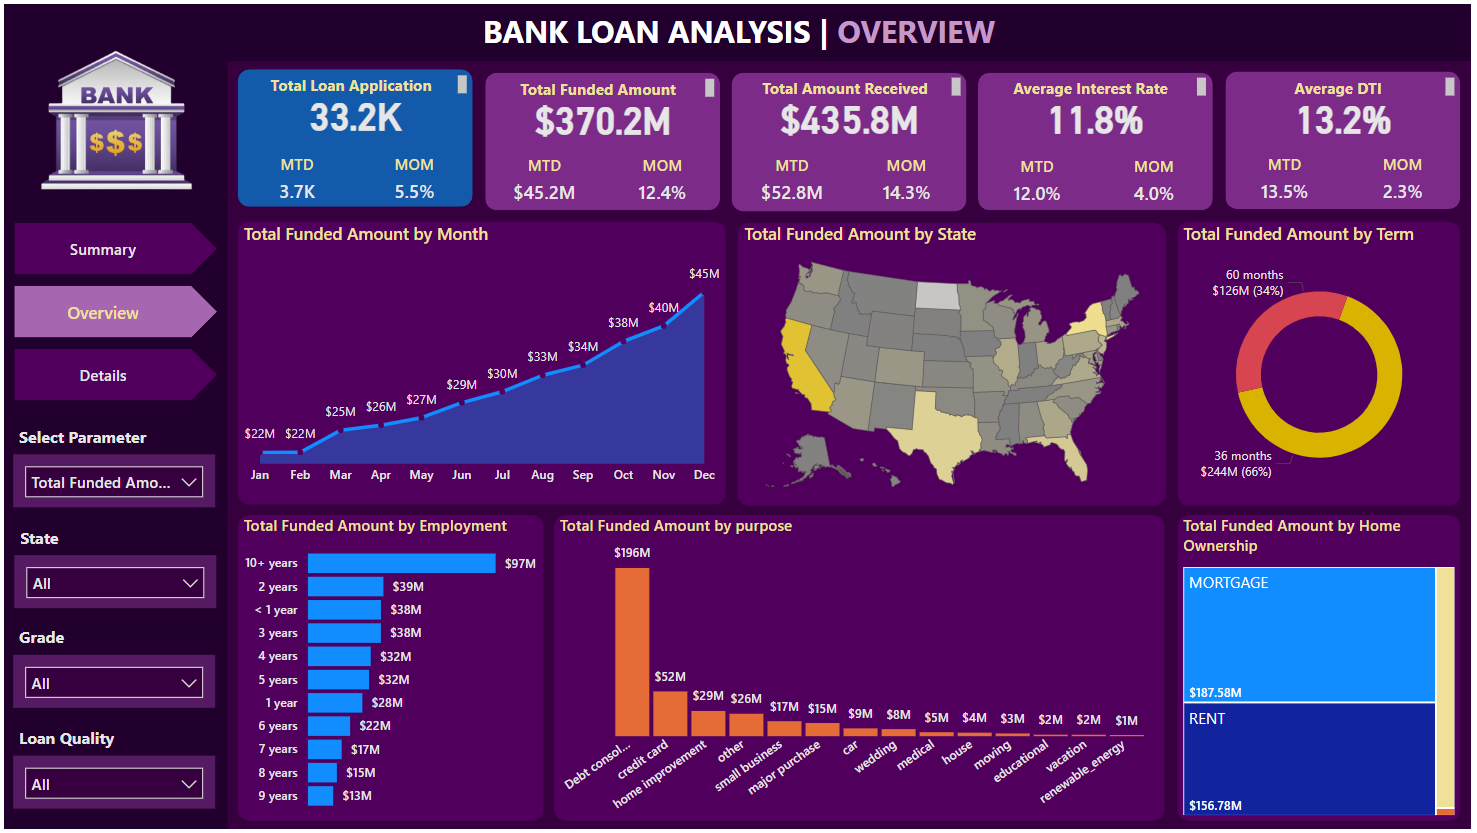

Layout of this report page (visuals, bound fields, positions):
{"tool":"powerbi","page":{"name":"Overview","canvas":[1280,720],"ordinal":1},"visuals":[{"type":"shape","box":[0,0,1280,49.6],"z":0},{"type":"shape","box":[204.1,190.3,425.6,247.4],"z":0,"group":"g6"},{"type":"shape","box":[204.1,446.1,266.8,266.8],"z":1000},{"type":"shape","box":[0,49.5,195,670.4],"z":2000},{"type":"textbox","box":[401.1,0,479.9,49.4],"z":3000},{"type":"shape","box":[204.1,57.3,205,120],"z":3000,"group":"g1"},{"type":"shape","box":[1065.9,58.7,205,120],"z":3000,"group":"g4"},{"type":"shape","box":[419.6,59.8,205,120],"z":3000,"group":"g2"},{"type":"shape","box":[850.5,60,205,119.8],"z":3000,"group":"g3"},{"type":"group","id":"g1","title":"Group 1","box":[204.1,57.3,205,124.5],"z":4000},{"type":"shape","box":[635,59.5,205,121.1],"z":4000,"group":"g5"},{"type":"card","fields":{"Values":["loan_data.Total loan applications"]},"box":[204.1,73.8,205,45.9],"z":4000,"group":"g1"},{"type":"card","fields":{"Values":["loan_data.Average interest rate"]},"box":[850.5,75.2,204.5,45.9],"z":4000,"group":"g3"},{"type":"card","fields":{"Values":["loan_data.Average dti"]},"box":[1065.9,75.2,205,45.9],"z":4000,"group":"g4"},{"type":"card","fields":{"Values":["loan_data.Total funded amount"]},"box":[419.6,76.3,205,45.9],"z":4000,"group":"g2"},{"type":"textbox","box":[204.1,57.3,205,27.1],"z":5000,"group":"g1"},{"type":"textbox","box":[850.5,58.7,204.5,27.1],"z":5000,"group":"g3"},{"type":"textbox","box":[1065.9,58.7,205,27.1],"z":5000,"group":"g4"},{"type":"group","id":"g2","title":"Group 1","box":[419.6,59.8,205,123],"z":5000},{"type":"textbox","box":[419.6,59.8,205,27.1],"z":5000,"group":"g2"},{"type":"group","id":"g3","title":"Group 1","box":[850.5,58.7,205,124.3],"z":6000},{"type":"card","fields":{"Values":["loan_data.Total amount received"]},"box":[635.5,75.2,204.4,45.9],"z":6000,"group":"g5"},{"type":"card","title":"MTD","fields":{"Values":["loan_data.MTD avg dti"]},"box":[1080.7,130.9,73.4,50.8],"z":6000,"group":"g4"},{"type":"card","title":"MTD","fields":{"Values":["loan_data.MTD loan application"]},"box":[218.7,131.2,73.6,50.6],"z":6000,"group":"g1"},{"type":"card","title":"MTD","fields":{"Values":["loan_data.MTD funded amount"]},"box":[434.4,132,73.4,50.8],"z":6000,"group":"g2"},{"type":"card","title":"MTD","fields":{"Values":["loan_data.MTD avg int rate"]},"box":[865.3,132.2,73.2,50.8],"z":6000,"group":"g3"},{"type":"textbox","box":[635.5,58.7,204.5,27.1],"z":7000,"group":"g5"},{"type":"group","id":"g4","title":"Group 1","box":[1065.9,58.7,205,123],"z":7000},{"type":"card","title":"MOM","fields":{"Values":["loan_data.MOM avg dti"]},"box":[1183.5,130.9,73.4,50.8],"z":7000,"group":"g4"},{"type":"card","title":"MOM","fields":{"Values":["loan_data.MOM loan applications"]},"box":[321.2,131.2,73.6,50.6],"z":7000,"group":"g1"},{"type":"card","title":"MOM","fields":{"Values":["loan_data.MOM funded amount"]},"box":[537.2,132,73.4,50.8],"z":7000,"group":"g2"},{"type":"card","title":"MOM","fields":{"Values":["loan_data.MOM avg int rate"]},"box":[967.8,132.2,73.2,50.8],"z":7000,"group":"g3"},{"type":"group","id":"g5","title":"Group 2","box":[635,58.7,205,123.8],"z":8000},{"type":"card","title":"MTD","fields":{"Values":["loan_data.MTD amount received"]},"box":[651.1,131.7,73.2,50.8],"z":8000,"group":"g5"},{"type":"group","id":"g6","title":"Group 3","box":[204.1,190.3,425.6,247.4],"z":9000},{"type":"card","title":"MOM","fields":{"Values":["loan_data.MOM amount received"]},"box":[750.9,131.7,73.2,50.8],"z":10000,"group":"g5"},{"type":"group","id":"g7","title":"Group 4","box":[9.3,450.8,176.4,76.3],"z":10000},{"type":"group","id":"g8","title":"Group 4","box":[8.3,538.4,176.4,76.3],"z":11000},{"type":"group","id":"g9","title":"Group 4","box":[8.3,626.1,176.4,76.3],"z":12000},{"type":"group","id":"g10","title":"Group 4","box":[8.3,363.1,176.4,76.3],"z":13000},{"type":"areaChart","fields":{"Y":["loan_data.Total Funded Amount"],"Category":["Date Table.Month"]},"box":[204.1,190.1,425.6,237.6],"z":14000},{"type":"textbox","box":[8.3,363.1,176.4,28.9],"z":14500,"group":"g10"},{"type":"textbox","box":[9.3,450.8,176.4,28.9],"z":14500,"group":"g7"},{"type":"textbox","box":[8.3,538.4,176.4,28.9],"z":14500,"group":"g8"},{"type":"textbox","box":[8.3,626.1,176.4,28.9],"z":14500,"group":"g9"},{"type":"shape","box":[640,190.6,373.7,247.4],"z":15000},{"type":"slicer","fields":{"Values":["Select Measure.Select Measure"]},"box":[8.3,393,176.4,46.4],"z":15000,"group":"g10"},{"type":"slicer","fields":{"Values":["loan_data.address_state"]},"box":[9.3,480.7,176.4,46.4],"z":15000,"group":"g7"},{"type":"slicer","fields":{"Values":["loan_data.grade","loan_data.sub_grade"]},"box":[8.3,568.3,176.4,46.4],"z":15000,"group":"g8"},{"type":"slicer","fields":{"Values":["loan_data.Good vs Bad Loan"]},"box":[8.3,656,176.4,46.4],"z":15000,"group":"g9"},{"type":"shapeMap","fields":{"Value":["loan_data.Total Funded Amount"],"Category":["loan_data.address_state"]},"box":[640.5,190.1,373.7,247.4],"z":16000},{"type":"shape","box":[1024,190.2,247.4,247.4],"z":17000},{"type":"donutChart","fields":{"Y":["loan_data.Total Funded Amount"],"Category":["loan_data.term"]},"box":[1024,190.1,247.4,247.4],"z":18000},{"type":"barChart","fields":{"Y":["loan_data.Total Funded Amount"],"Category":["loan_data.emp_length"]},"box":[204.1,446.1,266.8,266.8],"z":19000},{"type":"shape","box":[479.6,446.1,533.6,266.8],"z":20000},{"type":"shape","box":[1024,446.1,247.4,266.8],"z":21000},{"type":"columnChart","fields":{"Y":["loan_data.Total Funded Amount"],"Category":["loan_data.purpose"]},"box":[479.6,446.1,533.6,266.8],"z":22000},{"type":"treemap","fields":{"Values":["loan_data.Total Funded Amount"],"Group":["loan_data.home_ownership"]},"box":[1024,446.1,247.4,266.8],"z":23000},{"type":"pageNavigator","box":[9.3,190.8,176.4,155.7],"z":24000},{"type":"image","box":[0,17.5,194.9,165],"z":25000}]}

Visuals, with their boxes in screenshot pixels (x1, y1, x2, y2), scaled from the page's 1280x720 canvas onto the 1477x833 screenshot:
shape: (0,0,1476,57)
shape: (236,220,727,506)
shape: (236,516,543,825)
shape: (0,57,225,832)
textbox: (463,0,1017,57)
shape: (236,66,472,205)
shape: (1230,68,1466,207)
shape: (484,69,721,208)
shape: (981,69,1218,208)
"Group 1" group: (236,66,472,210)
shape: (733,69,969,209)
card - loan_data.Total loan applications: (236,85,472,138)
card - loan_data.Average interest rate: (981,87,1217,140)
card - loan_data.Average dti: (1230,87,1466,140)
card - loan_data.Total funded amount: (484,88,721,141)
textbox: (236,66,472,98)
textbox: (981,68,1217,99)
textbox: (1230,68,1466,99)
"Group 1" group: (484,69,721,211)
textbox: (484,69,721,101)
"Group 1" group: (981,68,1218,212)
card - loan_data.Total amount received: (733,87,969,140)
"MTD" card: (1247,151,1332,210)
"MTD" card: (252,152,337,210)
"MTD" card: (501,153,586,211)
"MTD" card: (998,153,1083,212)
textbox: (733,68,969,99)
"Group 1" group: (1230,68,1466,210)
"MOM" card: (1366,151,1450,210)
"MOM" card: (371,152,456,210)
"MOM" card: (620,153,705,211)
"MOM" card: (1117,153,1201,212)
"Group 2" group: (733,68,969,211)
"MTD" card: (751,152,836,211)
"Group 3" group: (236,220,727,506)
"MOM" card: (866,152,951,211)
"Group 4" group: (11,522,214,610)
"Group 4" group: (10,623,213,711)
"Group 4" group: (10,724,213,813)
"Group 4" group: (10,420,213,508)
areaChart - loan_data.Total Funded Amount x Date Table.Month: (236,220,727,495)
textbox: (10,420,213,454)
textbox: (11,522,214,555)
textbox: (10,623,213,656)
textbox: (10,724,213,758)
shape: (738,221,1170,507)
slicer - Select Measure.Select Measure: (10,455,213,508)
slicer - loan_data.address_state: (11,556,214,610)
slicer - loan_data.grade x loan_data.sub_grade: (10,657,213,711)
slicer - loan_data.Good vs Bad Loan: (10,759,213,813)
shapeMap - loan_data.Total Funded Amount x loan_data.address_state: (739,220,1170,506)
shape: (1182,220,1467,506)
donutChart - loan_data.Total Funded Amount x loan_data.term: (1182,220,1467,506)
barChart - loan_data.Total Funded Amount x loan_data.emp_length: (236,516,543,825)
shape: (553,516,1169,825)
shape: (1182,516,1467,825)
columnChart - loan_data.Total Funded Amount x loan_data.purpose: (553,516,1169,825)
treemap - loan_data.Total Funded Amount x loan_data.home_ownership: (1182,516,1467,825)
pageNavigator: (11,221,214,401)
image: (0,20,225,211)
